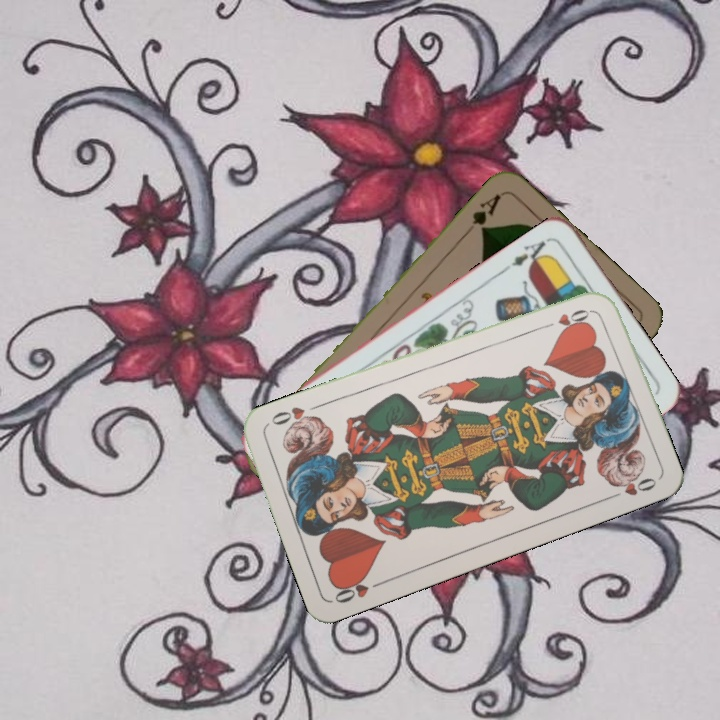EA: (501, 234, 554, 273)
GA: (468, 189, 504, 235)
HO: (330, 572, 387, 606), (537, 305, 595, 331)
